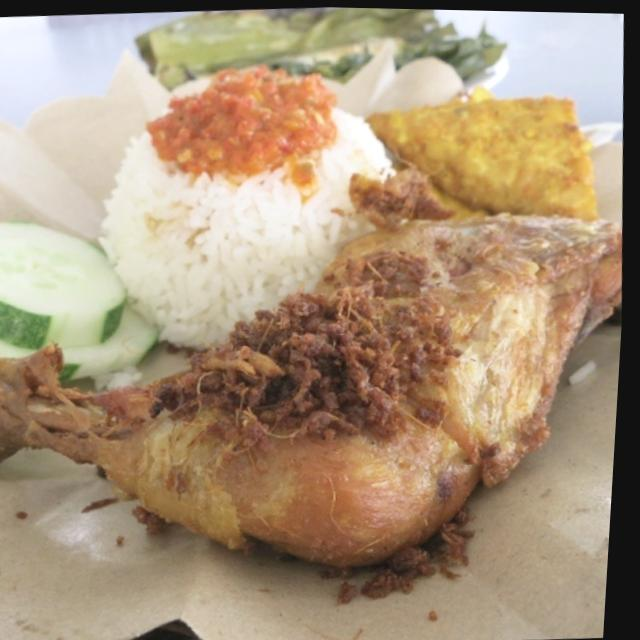米饭主食: (3, 12, 595, 598)
